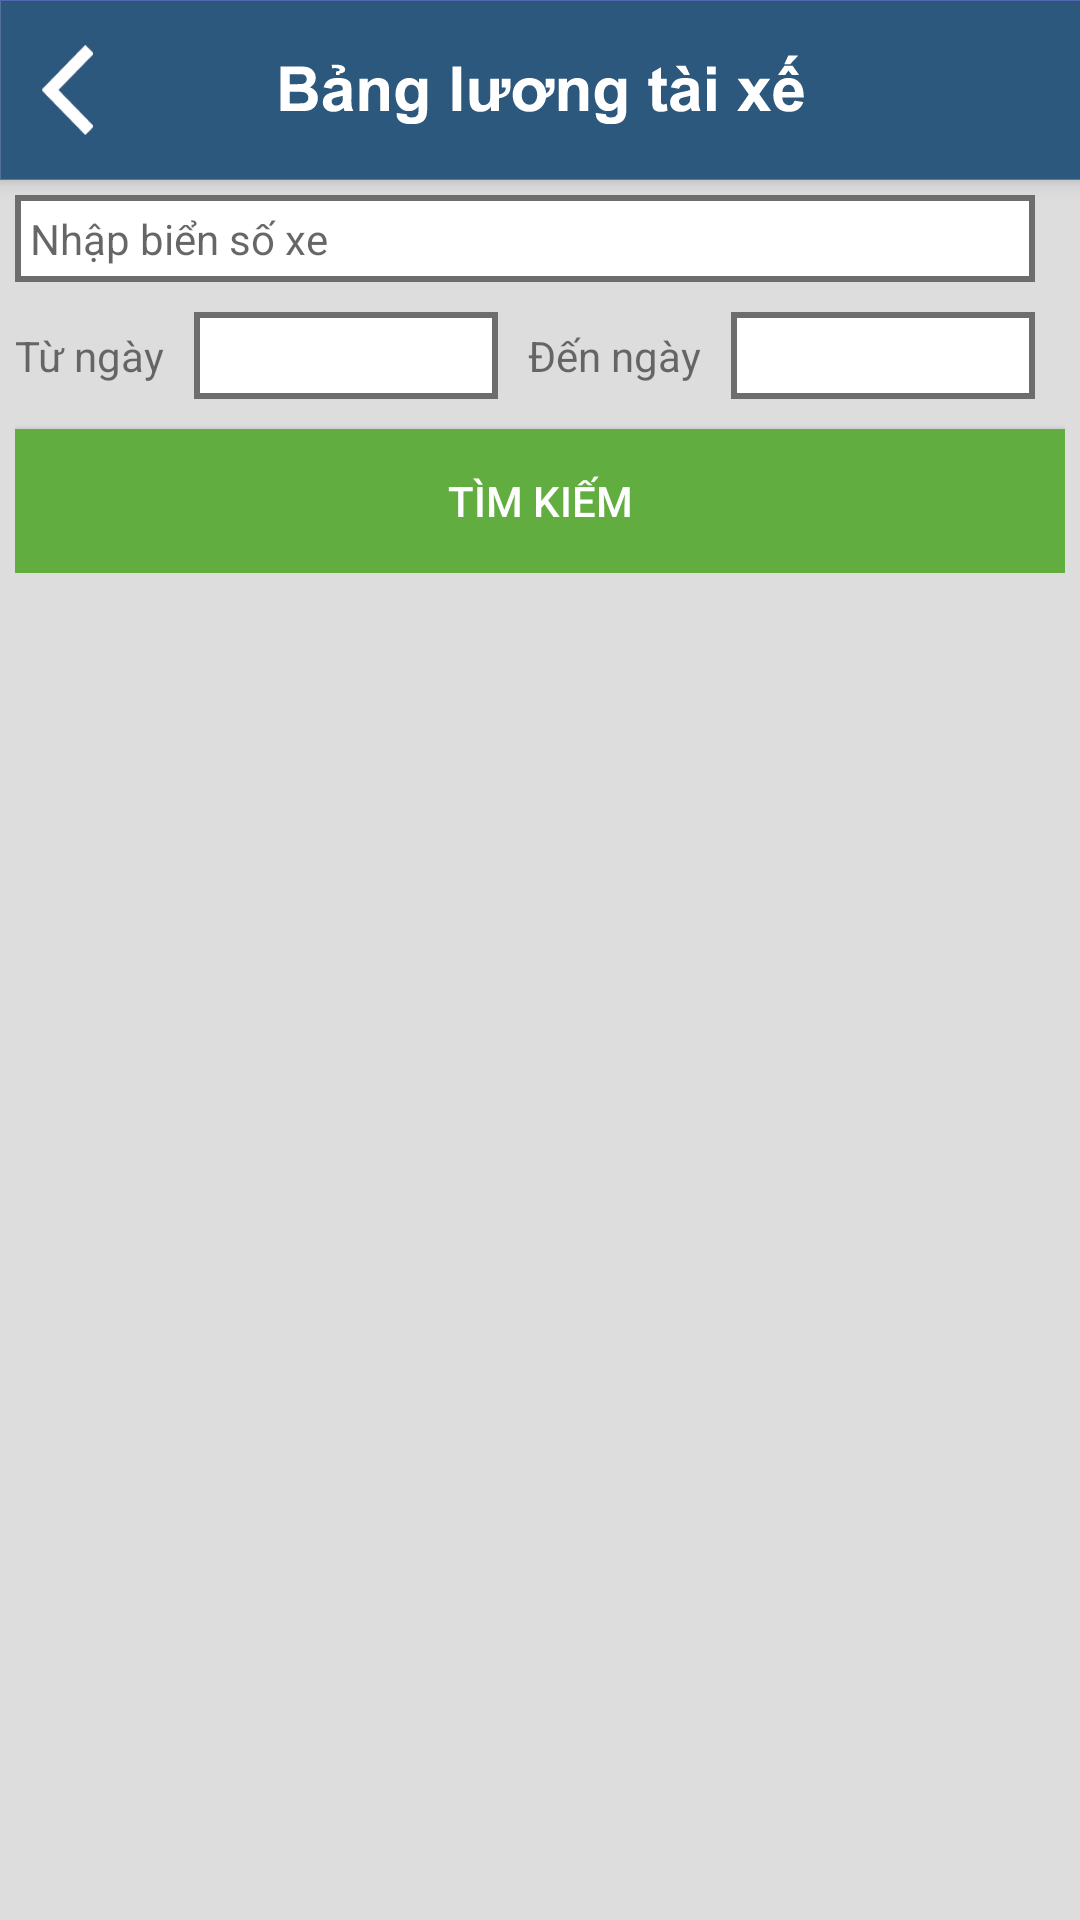

Screen size 1080px x 1920px. Icon name, then its center in pixels as (x,y):
back: (90,90)
